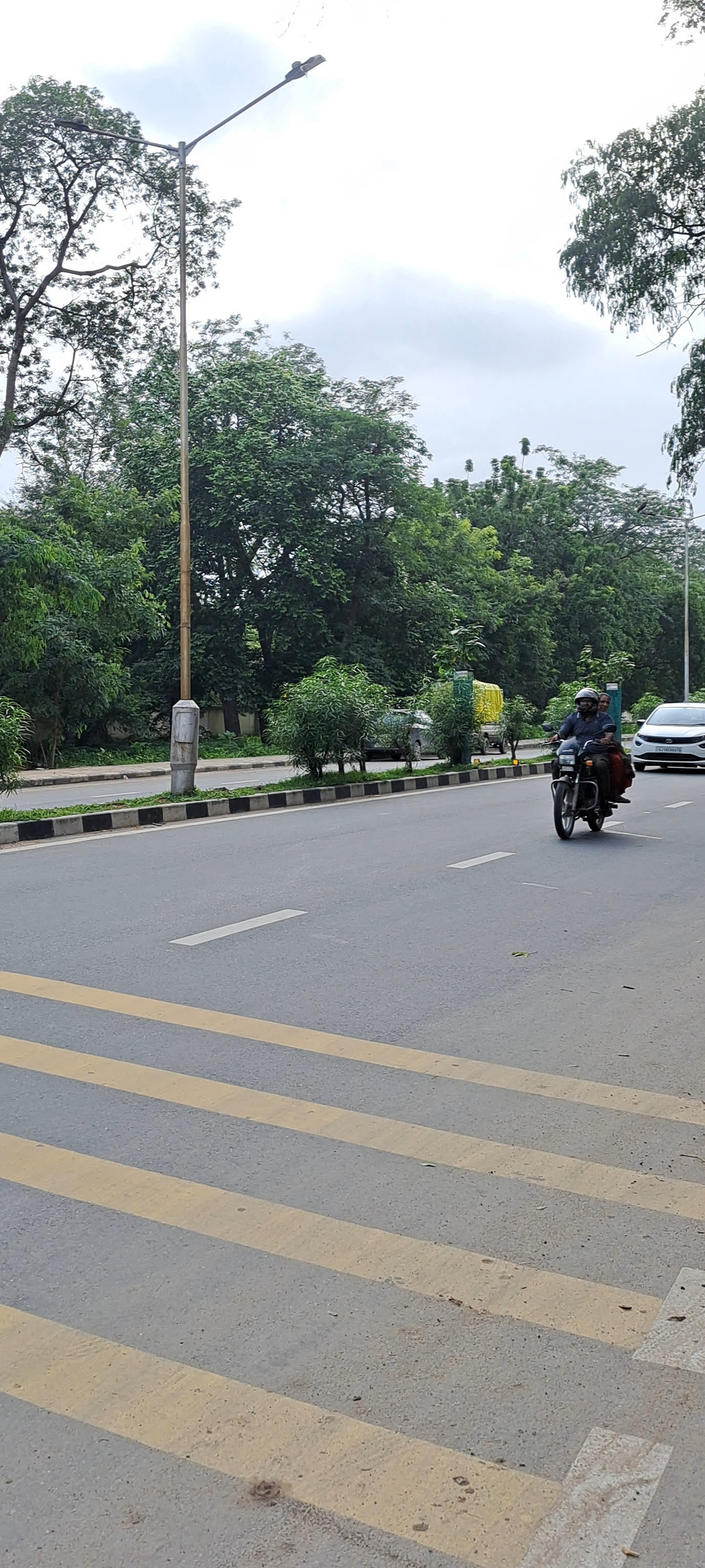BikeWithRider: (536, 684, 639, 843)
Helmet: (570, 685, 605, 716)
NoHelmet: (594, 691, 614, 716)
